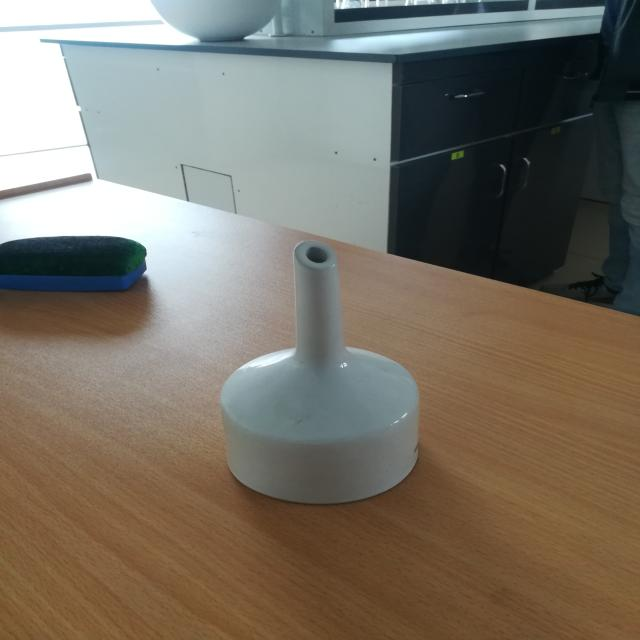Buchner_Funnel: (192, 208, 483, 527)
